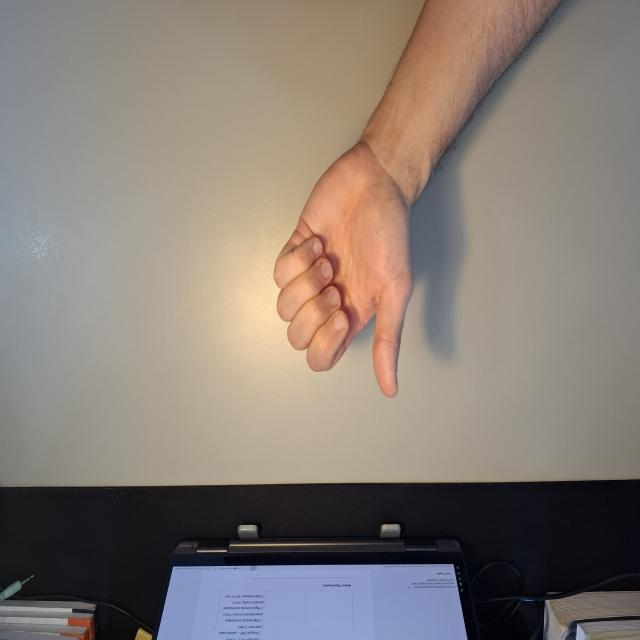glove_off: (271, 134, 420, 400)
